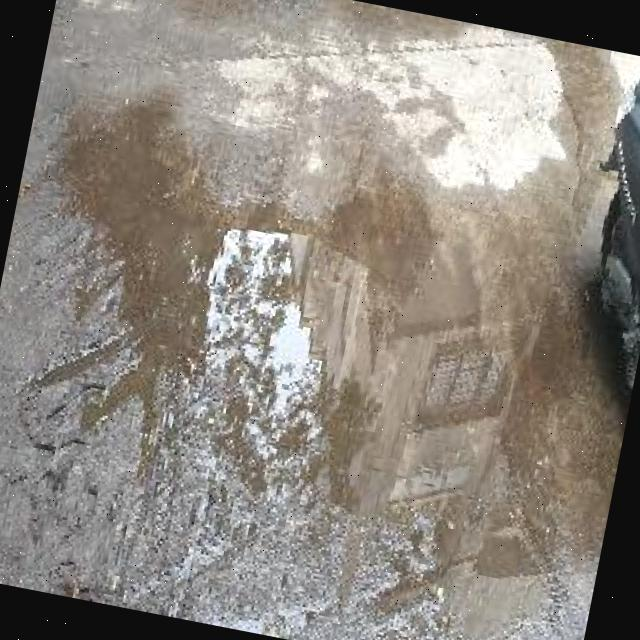waterlogging: (89, 134, 535, 544)
